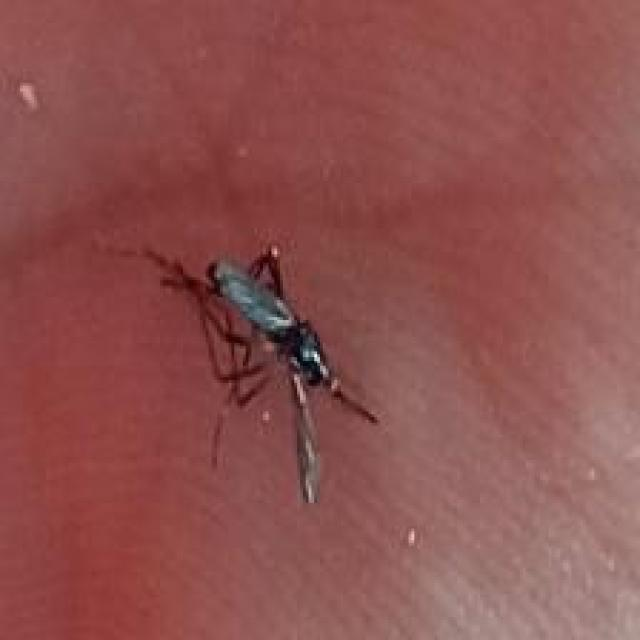Aedes albopictus: (134, 240, 383, 506)
